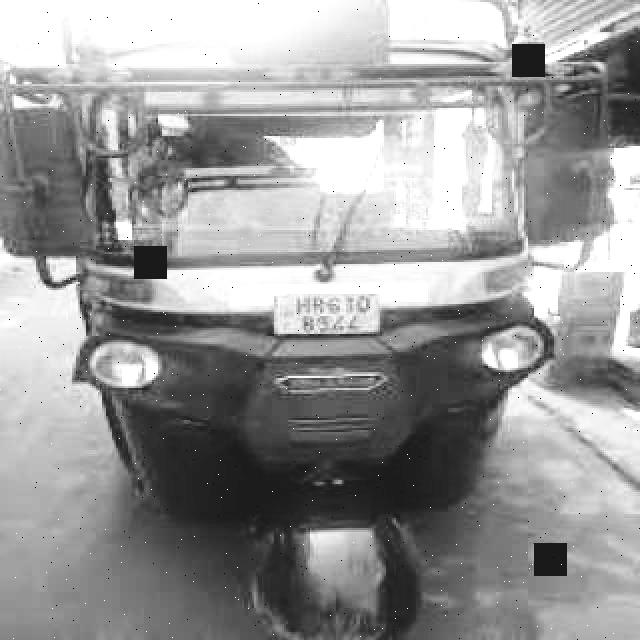Auto-Rickshaw: (46, 38, 568, 640)
